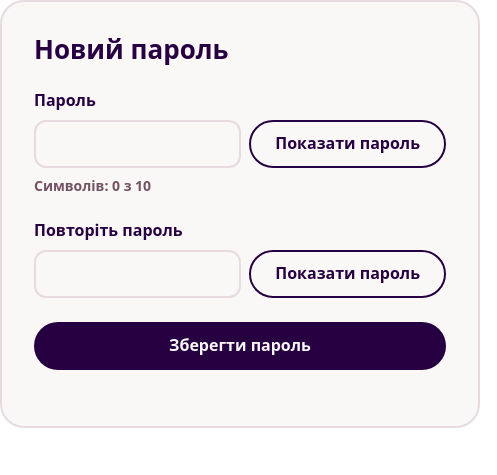
Scenario: the reset page › refuses two different passwords before sending anything
Type "ялинка-під-вікном" into the password field labelled "Пароль".
click(138, 144); type("ялинка-під-вікном")  # box [34,120,241,168]
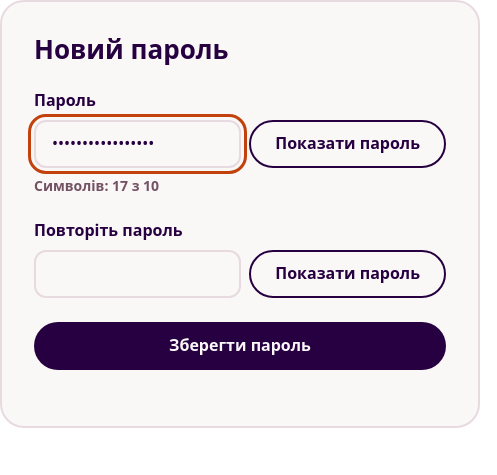
Type "ялинка-під-вікнoм" into the password field labelled "Повторіть пароль".
click(138, 274); type("ялинка-під-вікнoм")  # box [34,250,241,298]
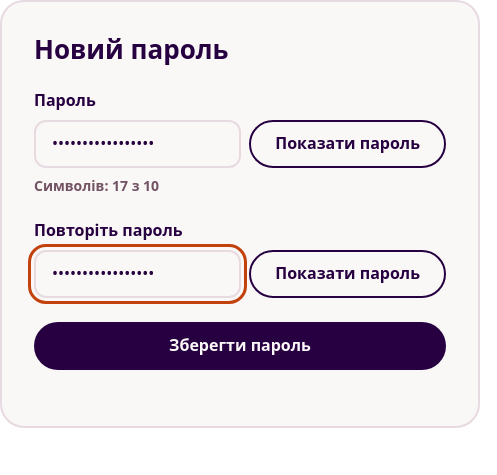
Click the button "Зберегти пароль".
click(240, 346)  # box [34,322,446,370]
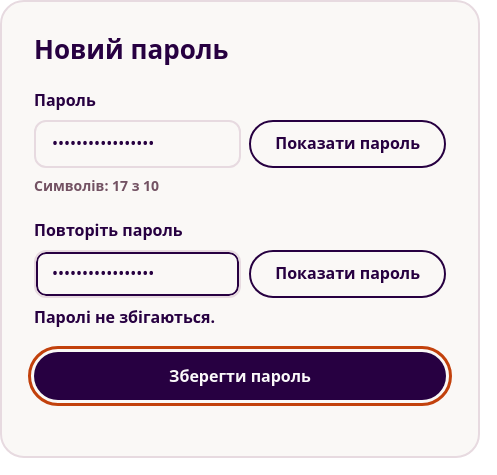
Check: the text "Паролі не збігаються." is shown, box [34,306,215,328]
